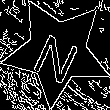N_NE: (29, 20, 86, 83)
